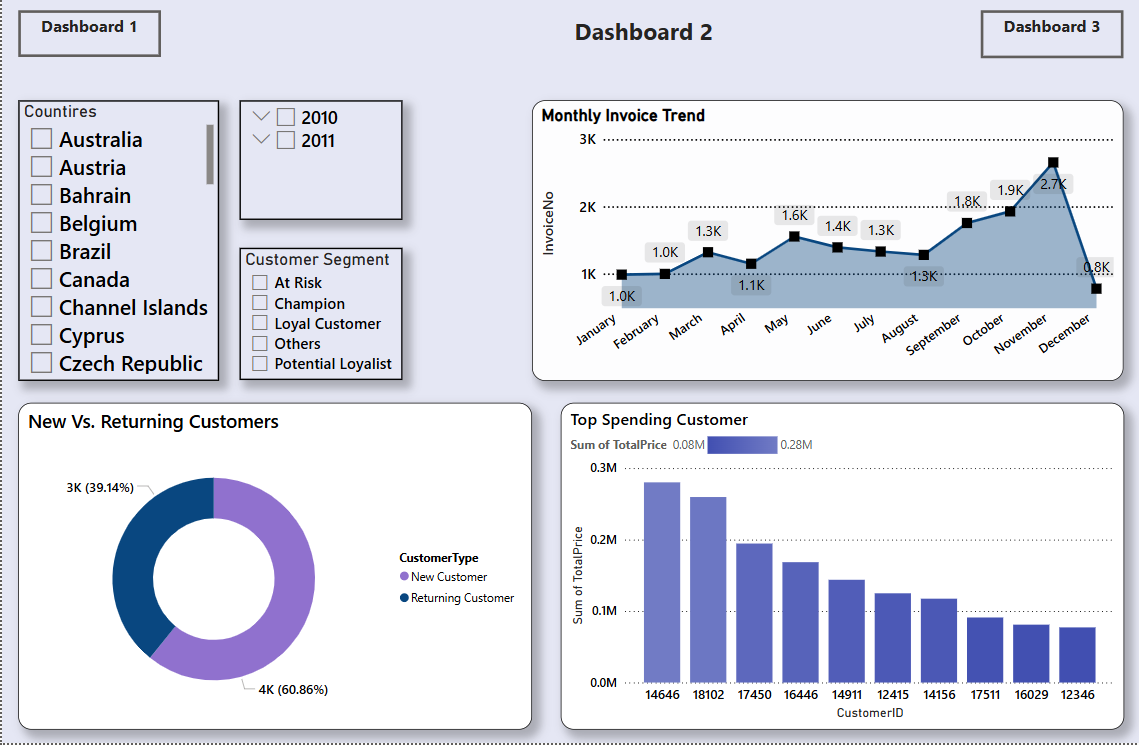

What the dashboard file says about the page in this screenshot:
{"tool":"powerbi","page":{"name":"Dashboard 2","canvas":[1300,850],"ordinal":2},"visuals":[{"type":"textbox","box":[1118.8,13,163.1,54.9],"z":0},{"type":"donutChart","title":"New Vs. Returning Customers ","fields":{"Category":["cleaned_online_retail.CustomerType"],"Y":["RFM.Unique customers"]},"box":[18.8,462,587.6,373.9],"z":1000},{"type":"lineChart","title":"Monthly Invoice Trend ","fields":{"Category":["cleaned_online_retail.InvoiceDate.Variation.Date Hierarchy.Year","cleaned_online_retail.InvoiceDate.Variation.Date Hierarchy.Month"],"Y":["Count(cleaned_online_retail.InvoiceNo)"]},"box":[606.3,115.5,675.6,320.5],"z":2000},{"type":"columnChart","title":"Top Spending Customer ","fields":{"Category":["cleaned_online_retail.CustomerID"],"Y":["Sum(cleaned_online_retail.TotalPrice)"]},"box":[638.1,462,643.9,373.9],"z":3000},{"type":"slicer","title":"Countires ","fields":{"Values":["cleaned_online_retail.Country"]},"box":[18.8,115.5,229.5,320.5],"z":4000},{"type":"slicer","fields":{"Values":["cleaned_online_retail.InvoiceDate.Variation.Date Hierarchy.Year","cleaned_online_retail.InvoiceDate.Variation.Date Hierarchy.Quarter","cleaned_online_retail.InvoiceDate.Variation.Date Hierarchy.Month","cleaned_online_retail.InvoiceDate.Variation.Date Hierarchy.Day"]},"box":[271.4,115.5,186.2,137.1],"z":5000},{"type":"slicer","title":"Customer Segment","fields":{"Values":["rfm_segments.segment"]},"box":[271.4,284.4,186.2,151.6],"z":6000},{"type":"textbox","box":[18.8,13,163.1,53.4],"z":7000},{"type":"actionButton","box":[18.8,13,163.1,53.4],"z":8000},{"type":"actionButton","box":[1118.8,13,163.1,54.9],"z":9000},{"type":"textbox","box":[522.6,13,421.5,54.9],"z":10000}]}

Visuals, with their boxes in screenshot pixels (x1, y1, x2, y2), scaled from the page's 1300x850 canvas onto the 1139x745 screenshot:
textbox: {"x1": 980, "y1": 11, "x2": 1123, "y2": 60}
"New Vs. Returning Customers " donutChart: {"x1": 16, "y1": 405, "x2": 531, "y2": 733}
"Monthly Invoice Trend " lineChart: {"x1": 531, "y1": 101, "x2": 1123, "y2": 382}
"Top Spending Customer " columnChart: {"x1": 559, "y1": 405, "x2": 1123, "y2": 733}
"Countires " slicer: {"x1": 16, "y1": 101, "x2": 218, "y2": 382}
slicer - cleaned_online_retail.InvoiceDate.Variation.Date Hierarchy.Year x cleaned_online_retail.InvoiceDate.Variation.Date Hierarchy.Quarter: {"x1": 238, "y1": 101, "x2": 401, "y2": 221}
"Customer Segment" slicer: {"x1": 238, "y1": 249, "x2": 401, "y2": 382}
textbox: {"x1": 16, "y1": 11, "x2": 159, "y2": 58}
actionButton: {"x1": 16, "y1": 11, "x2": 159, "y2": 58}
actionButton: {"x1": 980, "y1": 11, "x2": 1123, "y2": 60}
textbox: {"x1": 458, "y1": 11, "x2": 827, "y2": 60}
